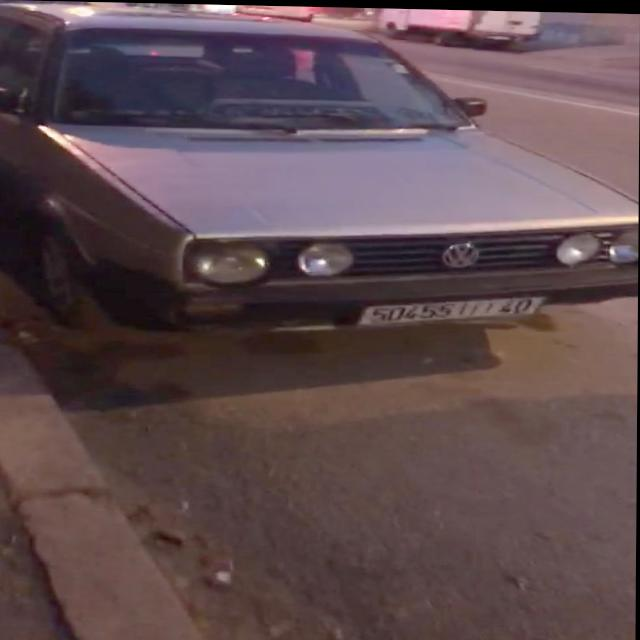License-Plate: (360, 295, 546, 324)
